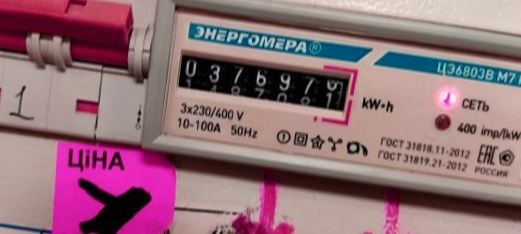0: (182, 56, 198, 78)
1: (322, 90, 335, 109)
3: (206, 62, 221, 83)
6: (253, 65, 268, 87)
7: (229, 63, 245, 85), (300, 73, 315, 96)
9: (276, 70, 291, 92)
screen: (166, 40, 362, 127)
